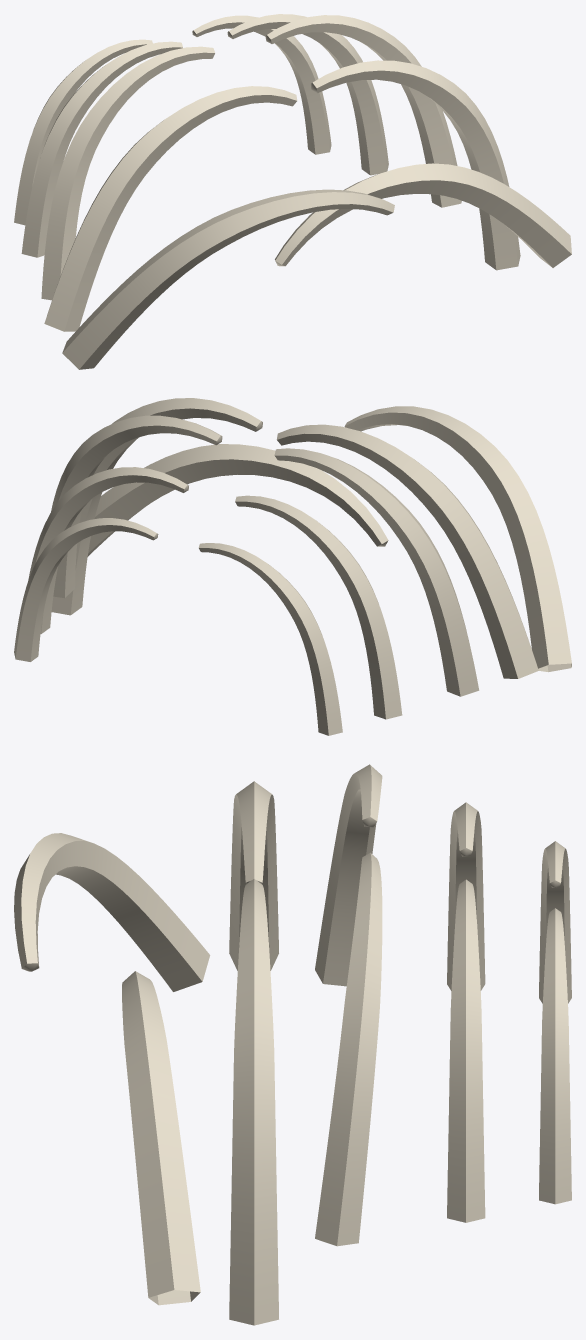
File: Rib cage.fbx
3 renders of one model, top to bottom at view 1: azimuth 30°, elevation 25°; view 2: azimuth 150°, elevation 25°; view 3: azimuth 270°, elevation 25°, orthographic. The views are drawn at different scales.
Parts seen in each view (by area): view 1: Rib_cage; view 2: Rib_cage; view 3: Rib_cage.
Boxes of the visible parts, bbox=[...] form: Rib_cage: bbox=[14, 14, 571, 369]; Rib_cage: bbox=[14, 398, 571, 735]; Rib_cage: bbox=[14, 764, 571, 1325].
Bounding box in the file's own units: 52.94 × 25.27 × 36.97.
